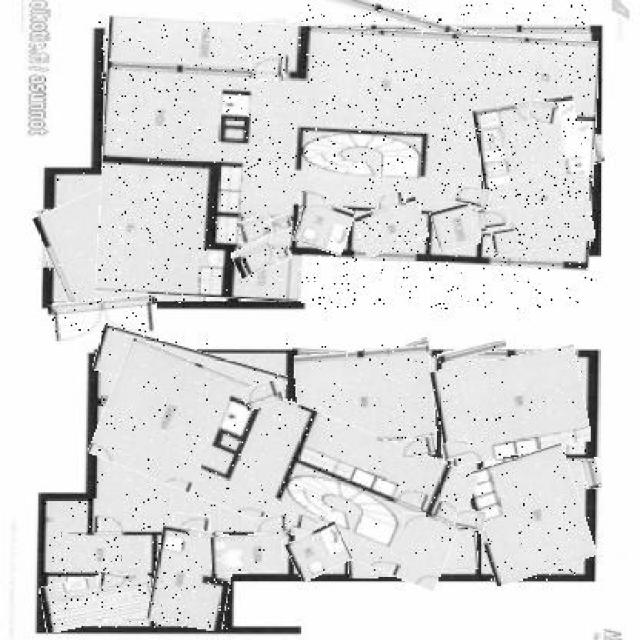door: (49, 297, 157, 341), (232, 240, 277, 275), (243, 382, 282, 409), (451, 185, 491, 209), (472, 208, 511, 232), (250, 55, 284, 80), (238, 217, 272, 241), (96, 514, 130, 537), (528, 100, 558, 125), (454, 509, 486, 531), (402, 437, 436, 457), (254, 517, 291, 535), (172, 514, 211, 531), (97, 572, 129, 591), (442, 438, 468, 458), (292, 514, 318, 532), (298, 192, 324, 208), (403, 512, 426, 530), (379, 194, 406, 209), (271, 215, 291, 232), (270, 248, 292, 263)
window: (302, 3, 588, 57), (169, 66, 240, 89), (490, 242, 564, 264), (364, 343, 430, 365), (437, 343, 506, 360), (40, 209, 57, 271), (360, 243, 414, 262), (292, 346, 363, 357), (511, 349, 575, 360), (168, 396, 237, 406), (100, 397, 168, 406), (582, 458, 602, 488), (586, 134, 603, 164), (101, 74, 168, 78)
zone: (99, 22, 596, 309), (94, 371, 475, 558), (42, 162, 238, 316), (477, 99, 591, 252), (434, 351, 586, 460), (469, 451, 589, 580), (295, 348, 437, 457), (94, 338, 288, 409), (103, 22, 291, 78), (151, 526, 232, 629), (43, 498, 151, 572), (346, 529, 479, 577), (40, 572, 152, 628), (357, 200, 428, 252), (288, 526, 349, 577), (296, 200, 352, 252), (212, 536, 283, 572), (431, 204, 478, 250)
